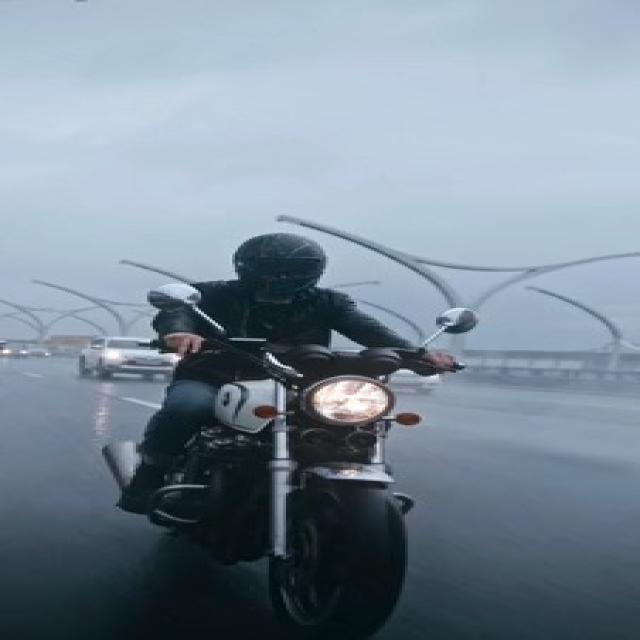Helmet_Wearer: (206, 227, 350, 297)
Jacket_Wearer: (170, 280, 402, 353)
Person: (145, 227, 422, 506)
